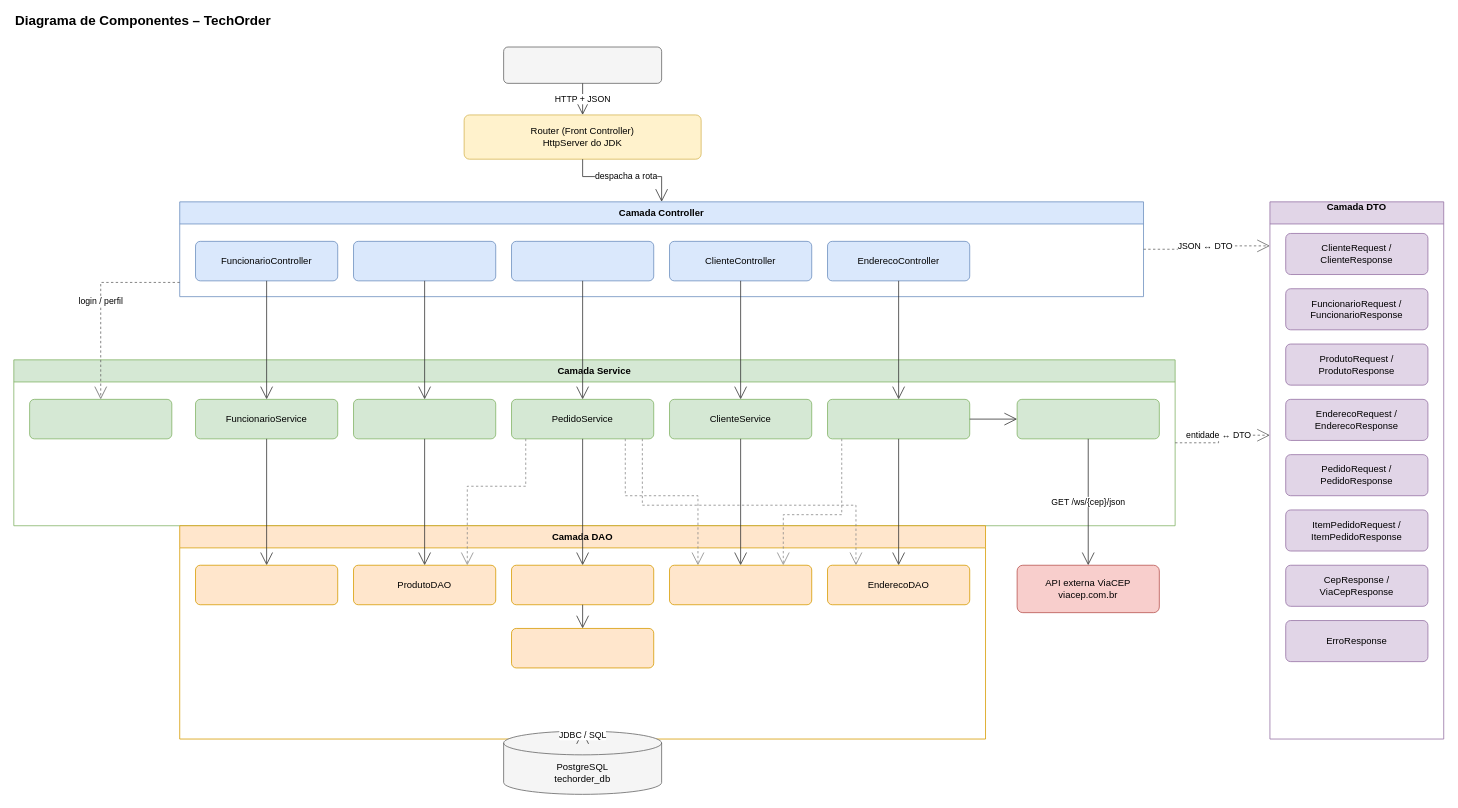
The diagram is 1458 pixels wide and 808 high, and some of its shapes have lost their labels. The shapes that lost their labels are listed below. From the top down, each one's centre as x and y in pixels, then its label:
At point (582, 64): "Cliente HTTP (Postman)".
At point (424, 261): "ProdutoController".
At point (582, 261): "PedidoController".
At point (100, 419): "AutenticacaoService (login e perfis)".
At point (424, 419): "ProdutoService".
At point (898, 419): "EnderecoService".
At point (1087, 419): "ViaCepClient (HttpClient do JDK)".
At point (266, 584): "FuncionarioDAO".
At point (582, 584): "PedidoDAO".
At point (740, 584): "ClienteDAO".
At point (582, 648): "ItemPedidoDAO".
